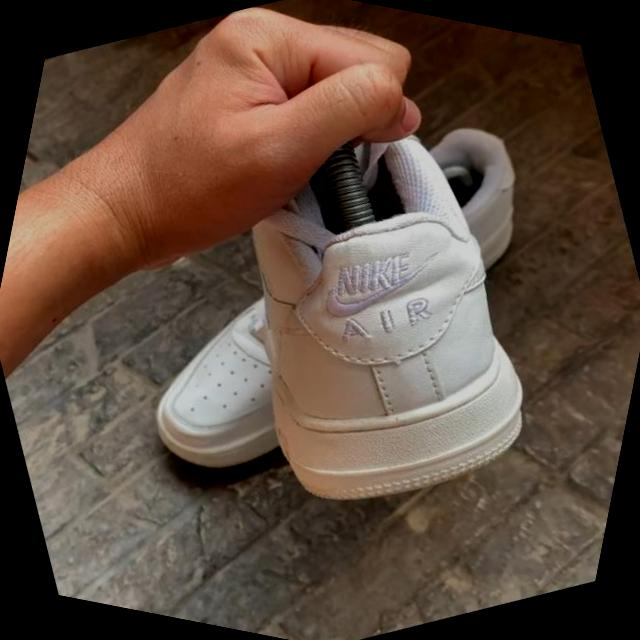nike_fake_airforce: (150, 80, 598, 562)
